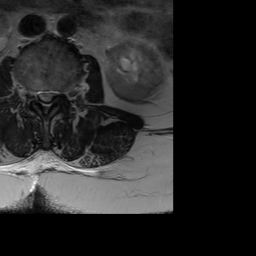CCS_normal: (43, 83, 50, 117)
LFS_severe_stenosis: (58, 85, 65, 101)
LLS_stenosis: (50, 85, 57, 105)
RFS_normal: (29, 84, 36, 105)
RLS_normal: (36, 84, 43, 106)
